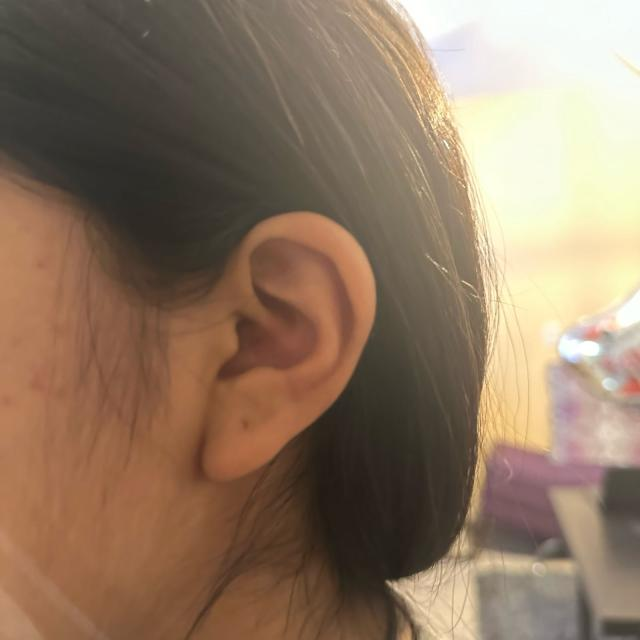ear: (201, 212, 375, 481)
